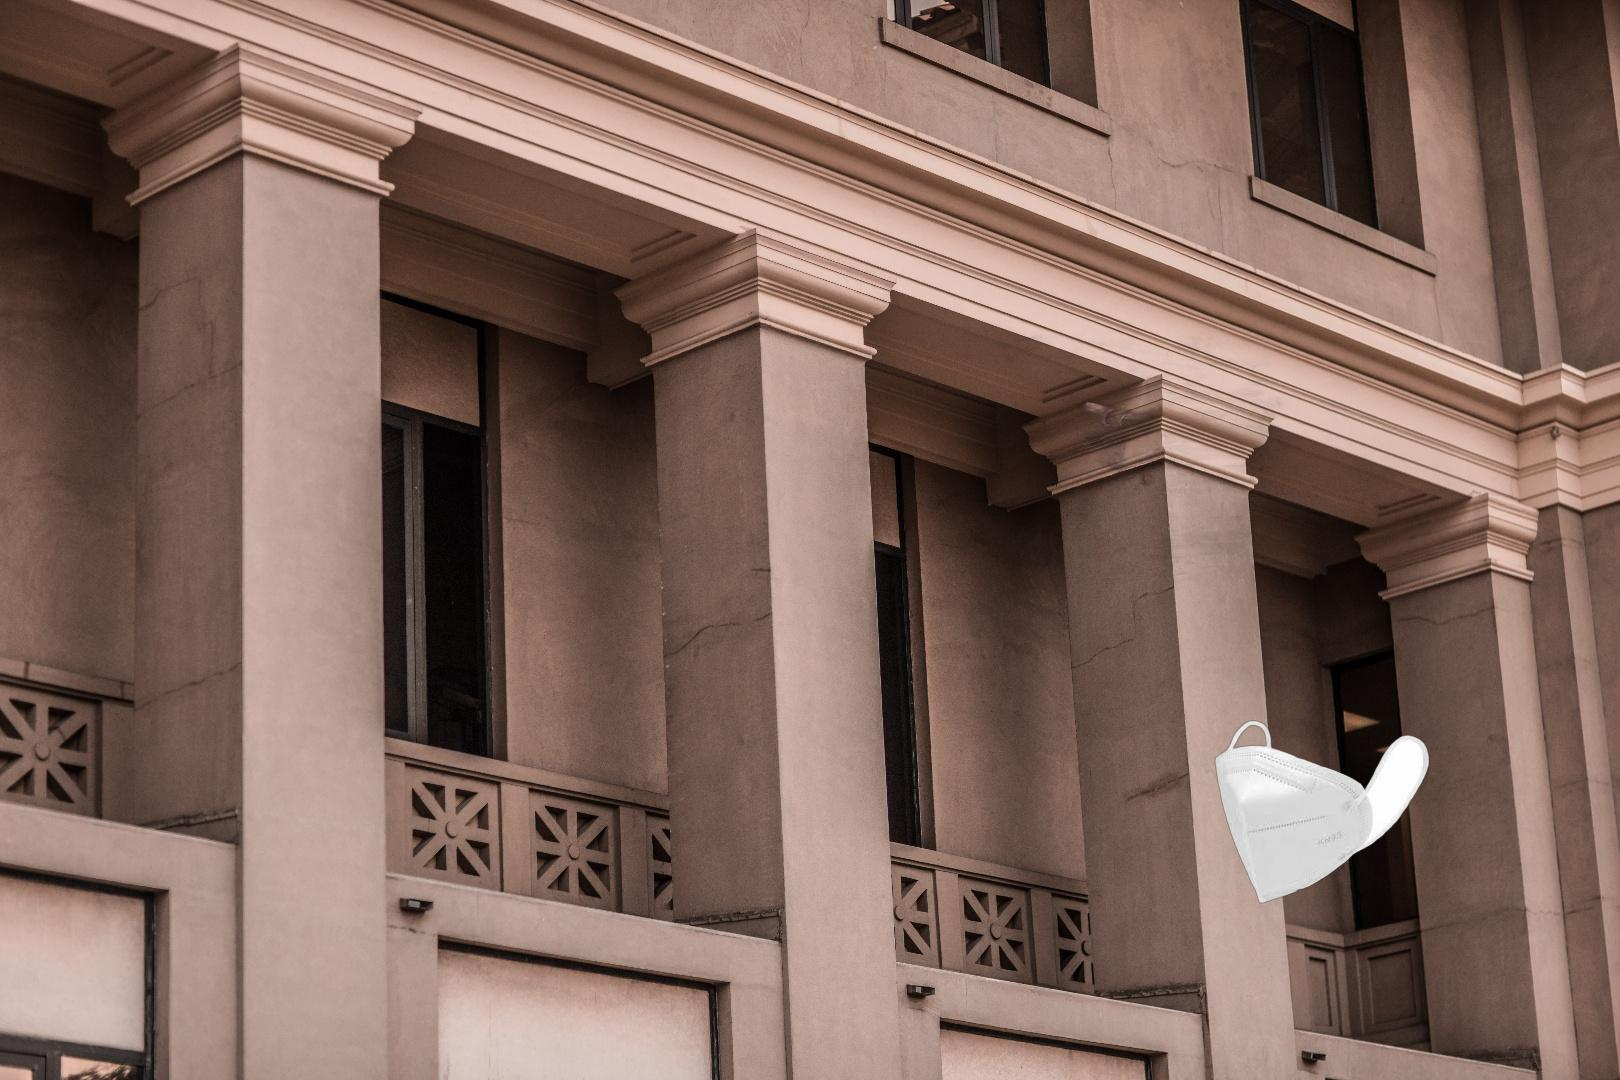trash: (1213, 718, 1432, 906)
trashbox-cardboard: (987, 331, 1377, 611)
